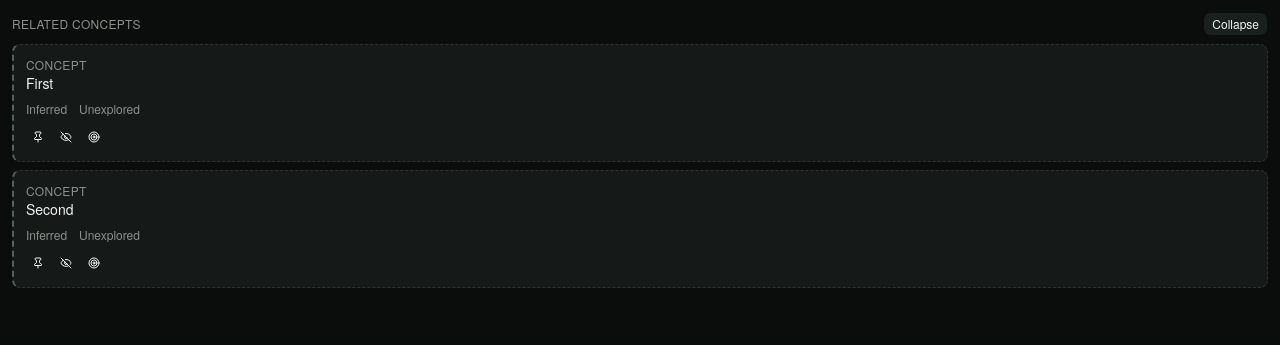
StructuredInspector view operations › pins an object to the top of its zone
The width and height of the screenshot is (1280, 345).
Click the button named "Pin Second": (38, 263) [26,251,50,275]
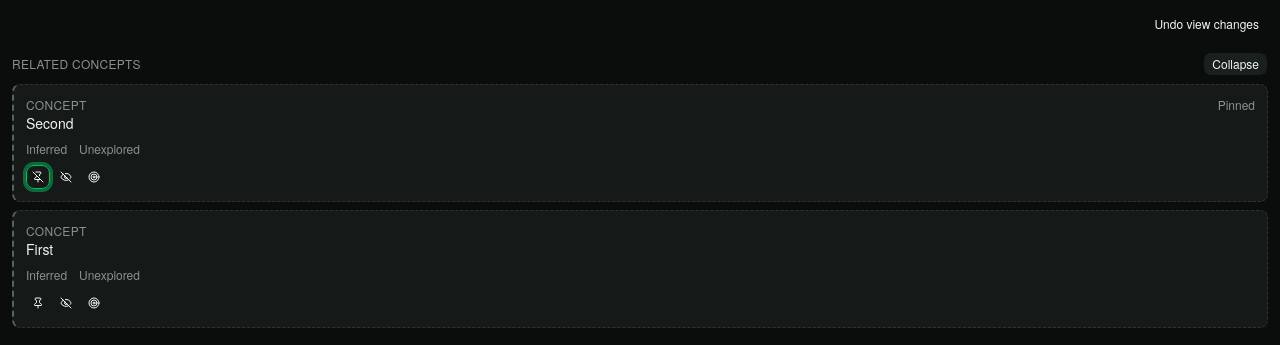
Expected: the heading "Second" is shown, [26,113,74,133]
Result: the text "Pinned" is shown at [1218,97,1255,113]
